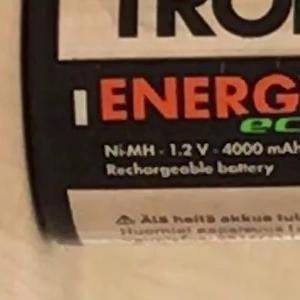keyword: (96, 135, 163, 166)
